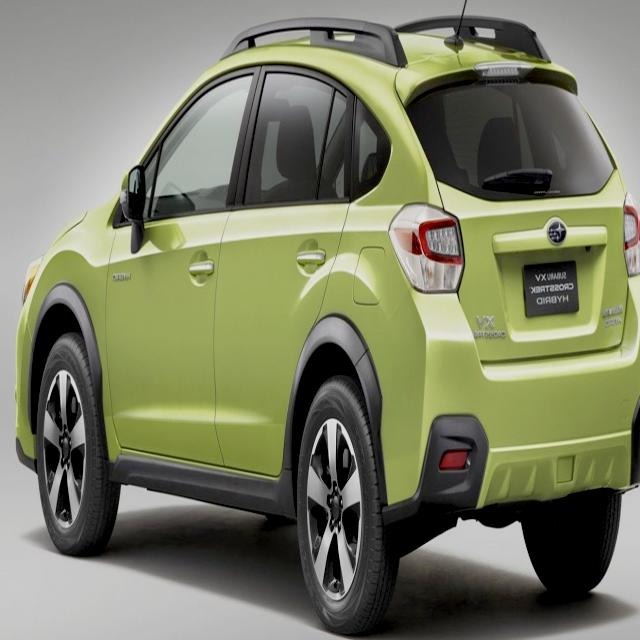green: (0, 10, 637, 639)
